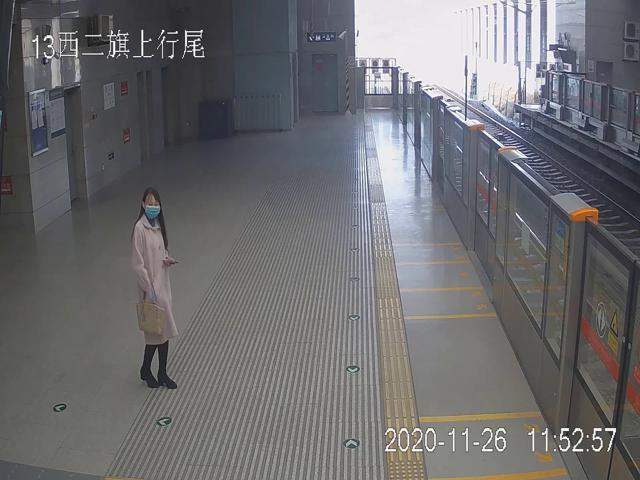person: (132, 187, 178, 390)
